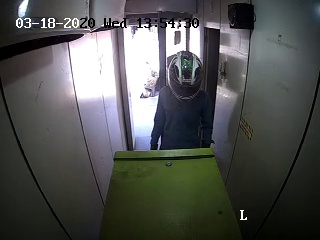helmet: (157, 48, 210, 102)
